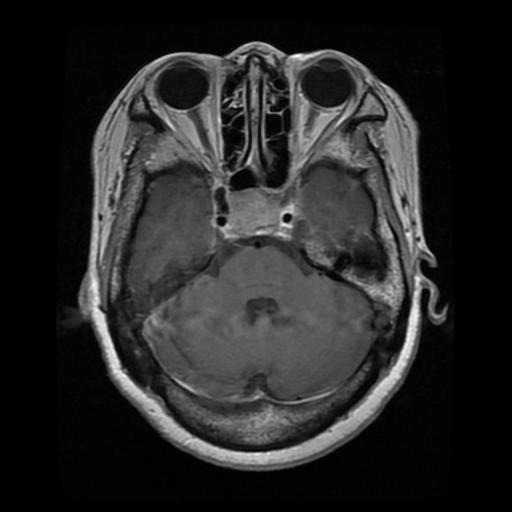Tumour-Pituitary: (211, 186, 301, 246)
